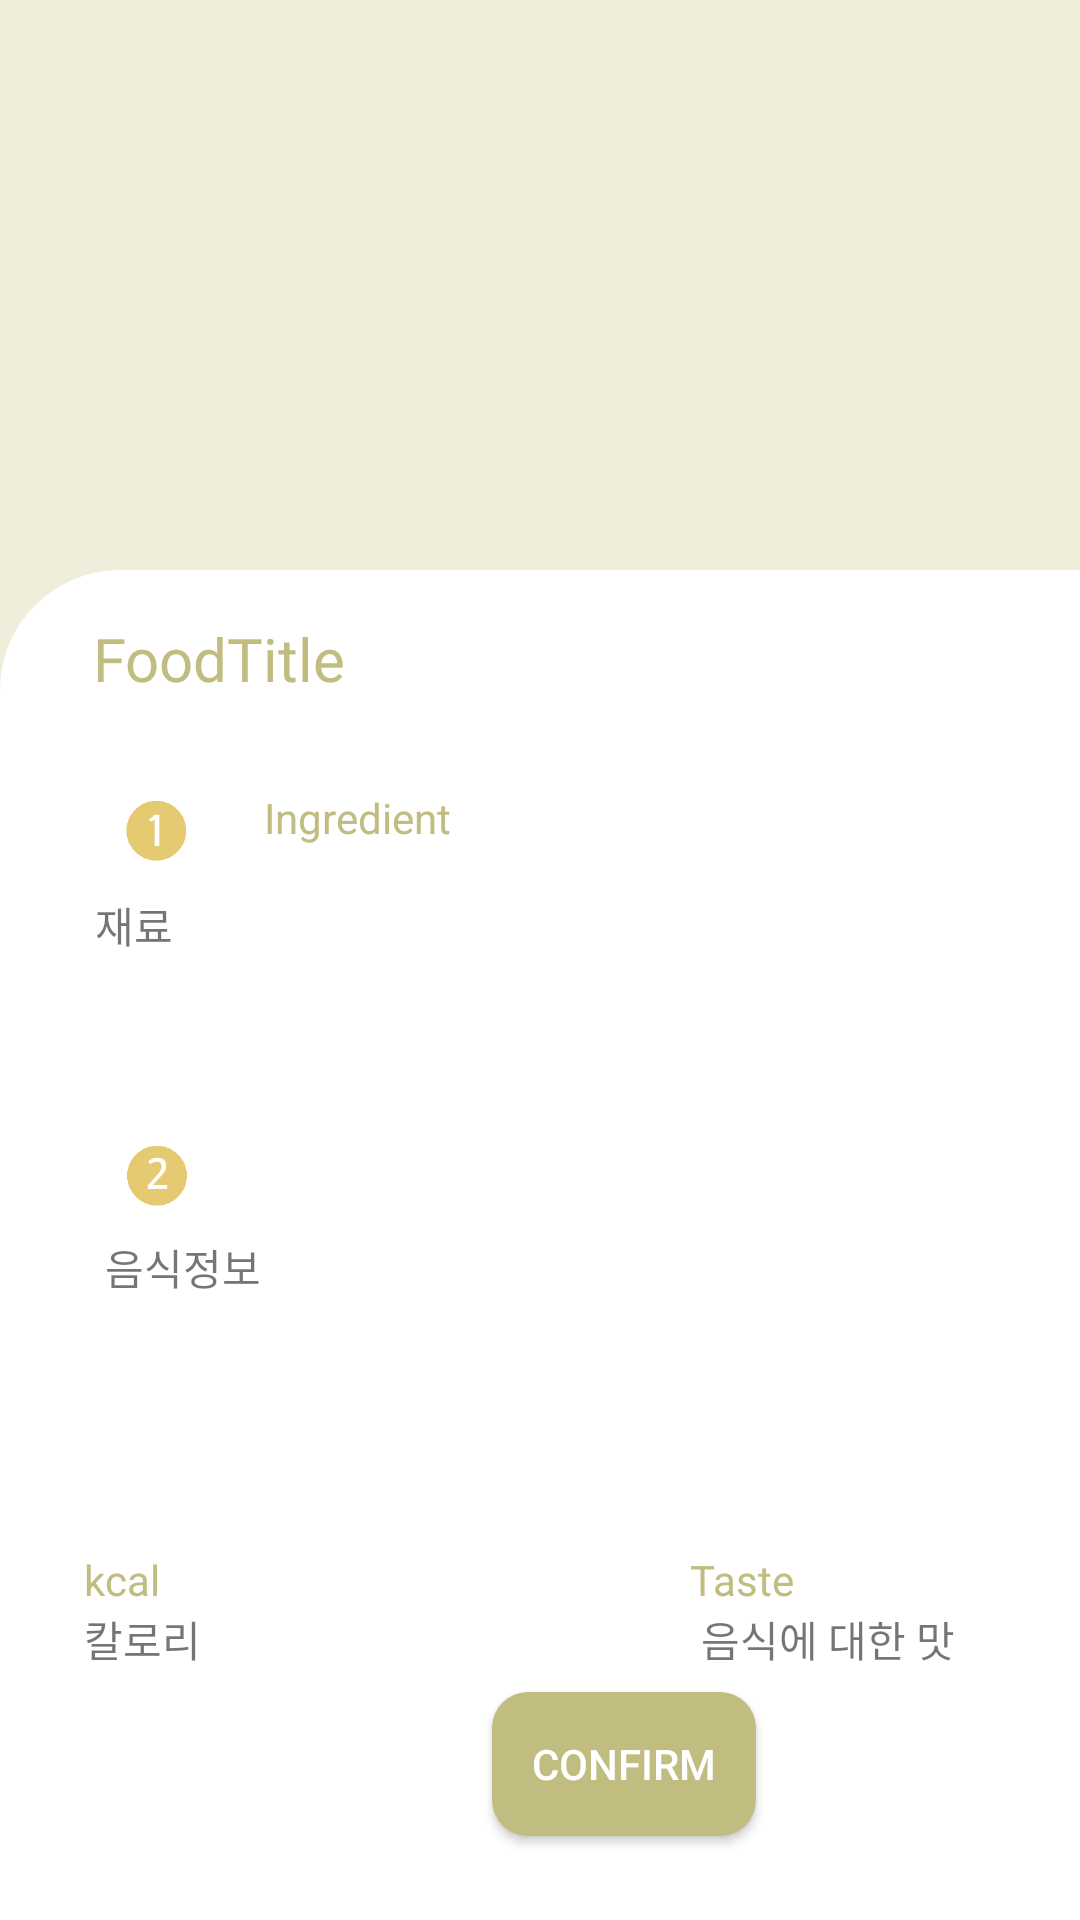

Screen size 1080w x 1920h. Icon name, then its center in pixels as (x,y):
number: (156,831), (157,1176)
